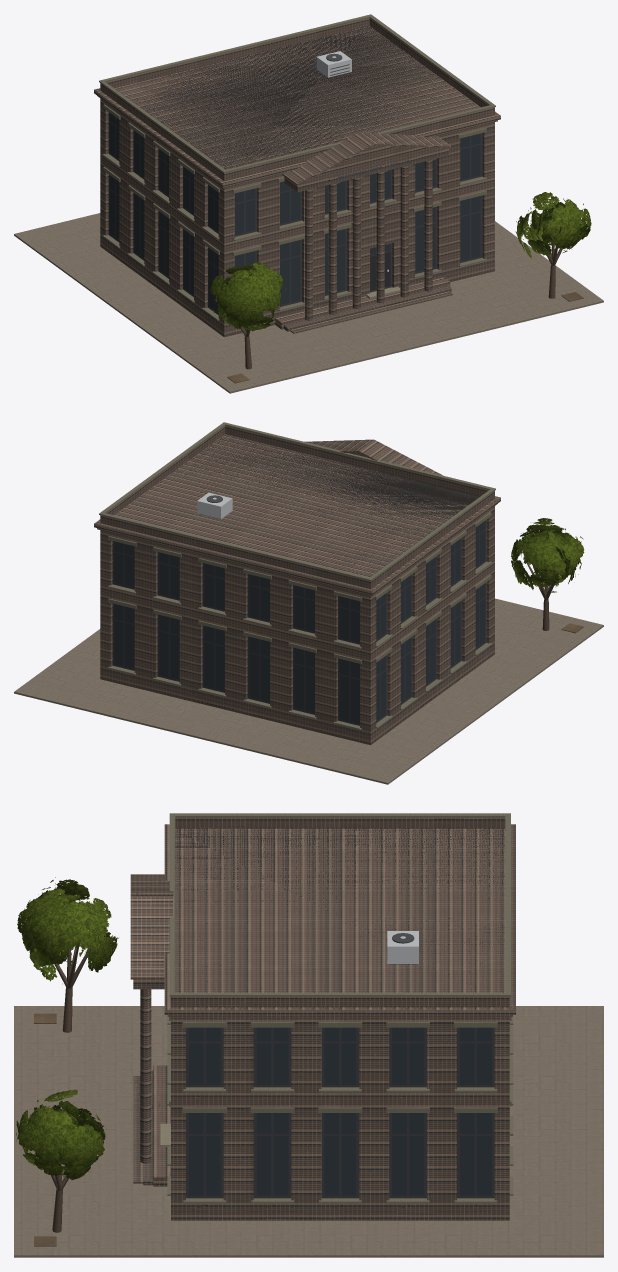
Rendered from bank.glb.
3 renders of one model, top to bottom at view 1: azimuth 30°, elevation 25°; view 2: azimuth 150°, elevation 25°; view 3: azimuth 270°, elevation 25°, orthographic. The views are drawn at different scales.
Visible parts, largest first — view 1: bank_body, bank_foliage; view 2: bank_body, bank_foliage; view 3: bank_body, bank_foliage.
Boxes of the visible parts, <box> form: bank_body: <box>14,14,603,393</box>; bank_foliage: <box>210,192,591,333</box>; bank_body: <box>14,422,603,784</box>; bank_foliage: <box>511,518,584,592</box>; bank_body: <box>14,813,603,1257</box>; bank_foliage: <box>16,877,118,1180</box>.
Size of the model in its own units: 0.94 by 0.415 by 0.94.
Materials: 15 (8 with a texture image).
